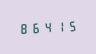eight: (18, 21, 29, 34)
five: (66, 19, 77, 32)
four: (42, 20, 53, 33)
one: (54, 19, 65, 33)
six: (30, 20, 41, 34)
